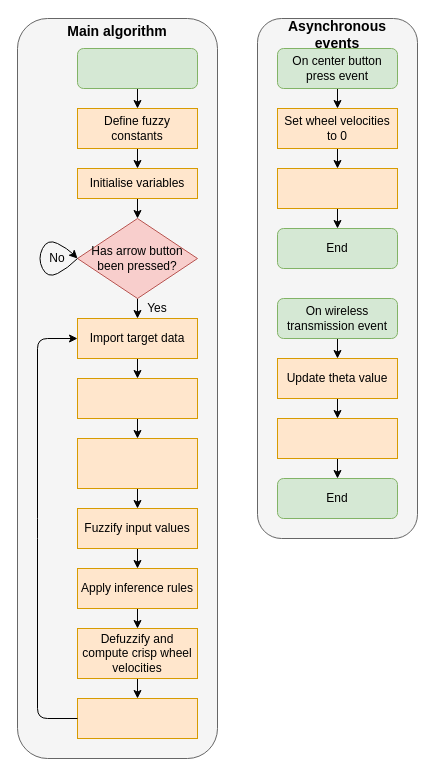
This 435x776 diagram has some shape labels left out. Here are the shapes that lost their labels. From the top down, the box of each, then its label:
(76, 48, 198, 88): Start
(276, 168, 398, 208): Pause main algorithm
(76, 378, 198, 418): Read infrared sensor data
(276, 418, 398, 458): Update distance value
(76, 438, 198, 488): Encode sensor data into active sensor feedback structure
(76, 698, 198, 738): Set wheel velocities to crisp output values
